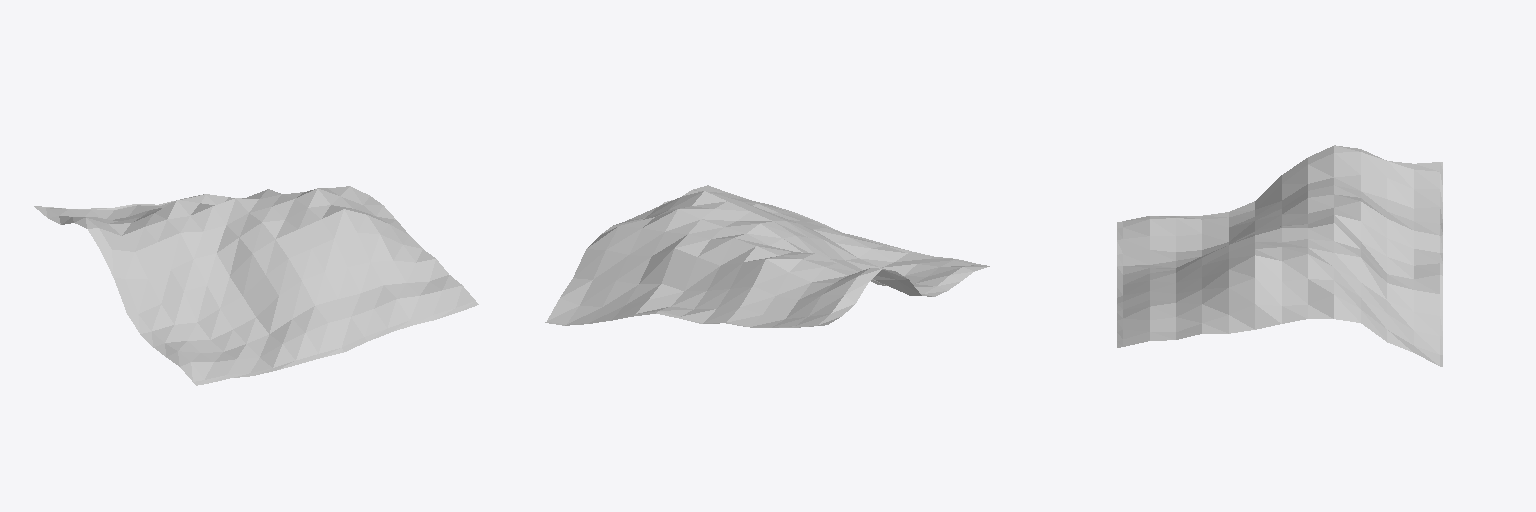
File: Landscape.040.obj
3 views of the same model, side by side, from view 1: azimuth 30°, elevation 25°; view 2: azimuth 150°, elevation 25°; view 3: azimuth 270°, elevation 25° (orthographic).
Visible parts, largest first — view 1: Landscape.040; view 2: Landscape.040; view 3: Landscape.040.
Part boxes in pixels (x1,y1,x2,y2): Landscape.040: (34,186,478,385); Landscape.040: (545,185,989,327); Landscape.040: (1117,145,1442,366).
Size of the model in its own units: 32 by 9 by 32.